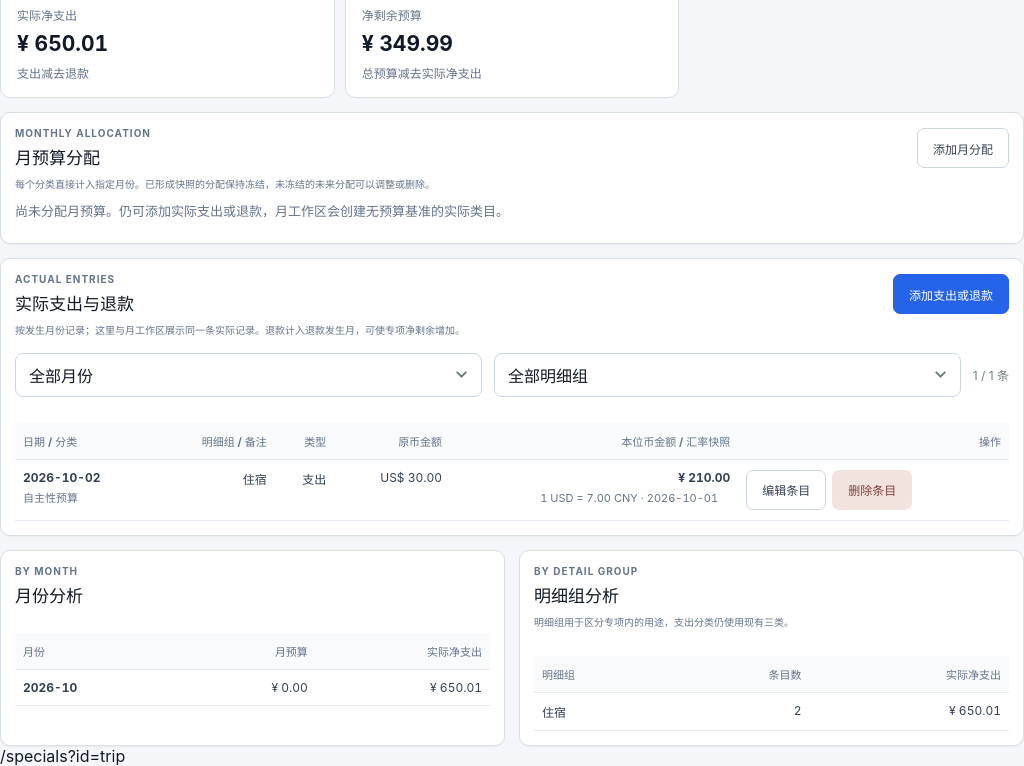
Test: specials page › deletes the same monthly actual fact and invalidates both special and monthly views
(page scrolled)
Click the button "删除条目": coordinates (872, 490) [832,470,912,510]
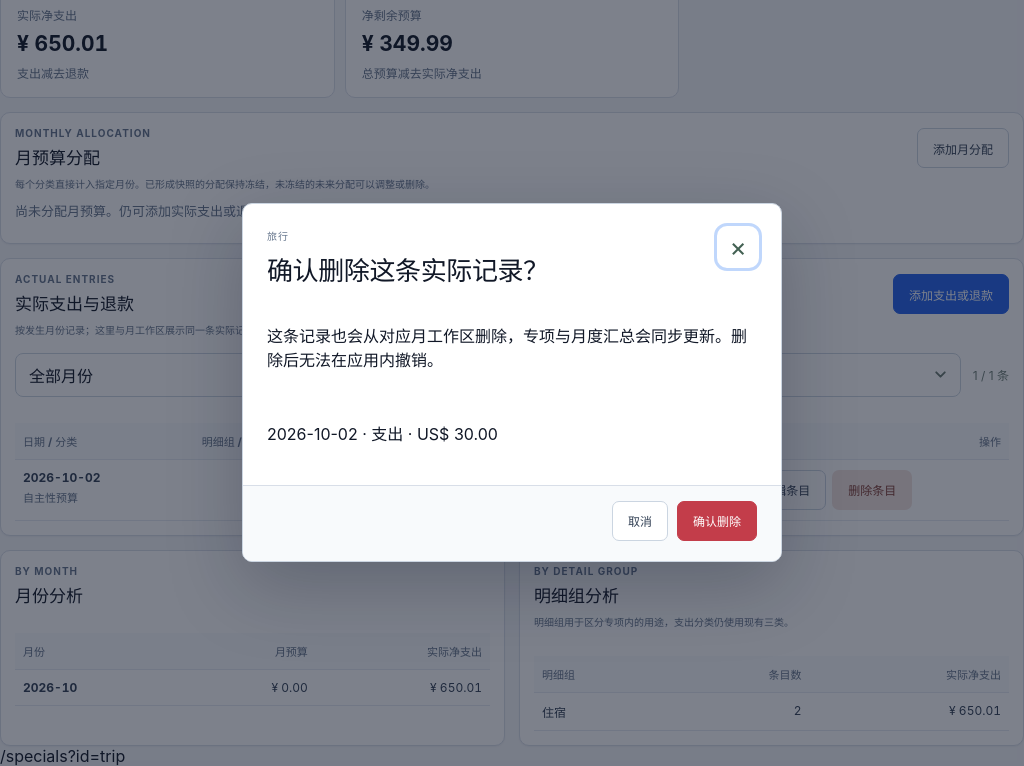
Click the button "确认删除": coordinates (717, 520) [677,500,757,540]
(page scrolled)
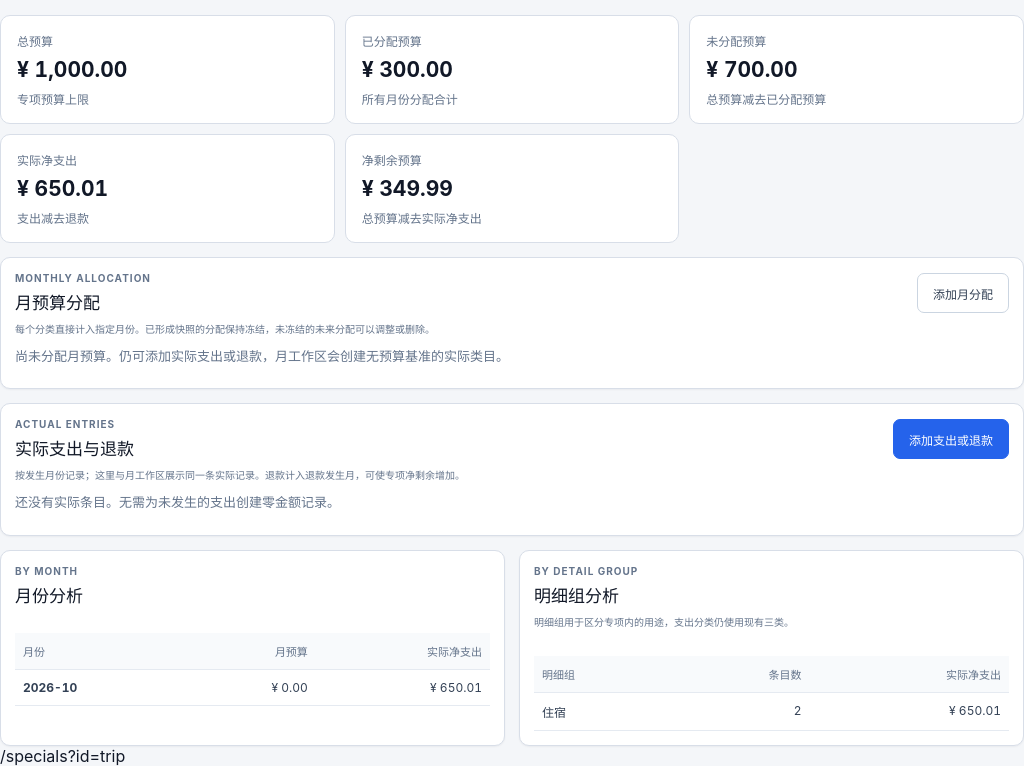
Check: the dialog is gone
Check: the button "编辑条目" is gone
